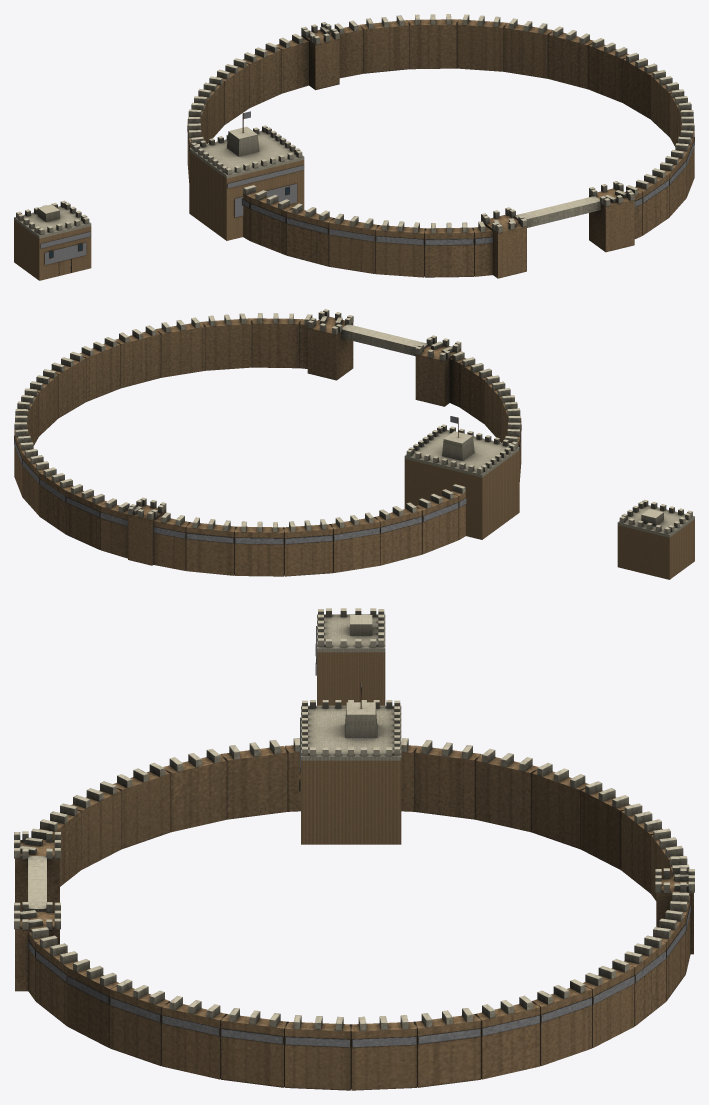
The model's file is shared-kingdoms-maghreb.glb.
3 renders of one model, top to bottom at view 1: azimuth 30°, elevation 25°; view 2: azimuth 150°, elevation 25°; view 3: azimuth 270°, elevation 25°, orthographic. The views are drawn at different scales.
Parts seen in each view (by area): view 1: LOD0.002, LOD0.001, LOD0; view 2: LOD0.002, LOD0.001, LOD0; view 3: LOD0.002, LOD0.001, LOD0.
Part boxes in pixels (<box>): LOD0.002: <box>187,14,694,278</box>; LOD0.001: <box>189,111,304,240</box>; LOD0: <box>14,200,91,280</box>; LOD0.002: <box>14,309,521,576</box>; LOD0.001: <box>404,416,519,539</box>; LOD0: <box>617,499,694,579</box>; LOD0.002: <box>14,738,694,1090</box>; LOD0.001: <box>299,682,401,844</box>; LOD0: <box>315,608,385,705</box>.
Size of what is drawn, in the model's own units: 9.8 by 1.5 by 6.78.
2 materials, 2 textured.
